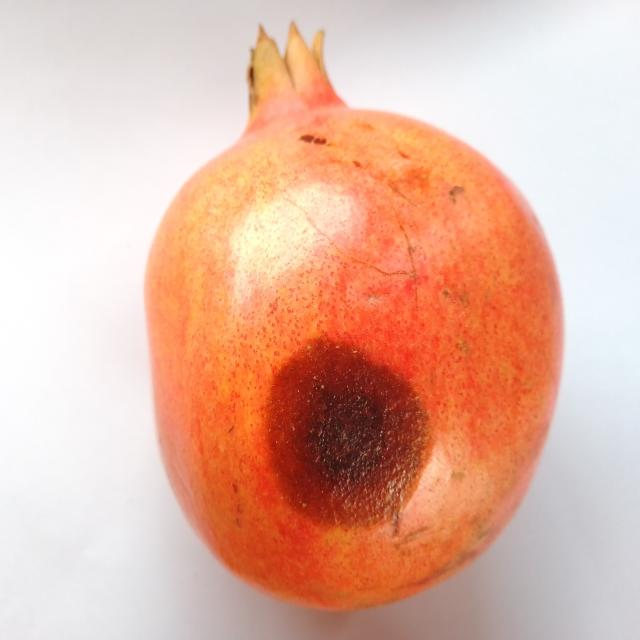Rotten: (137, 17, 566, 612)
